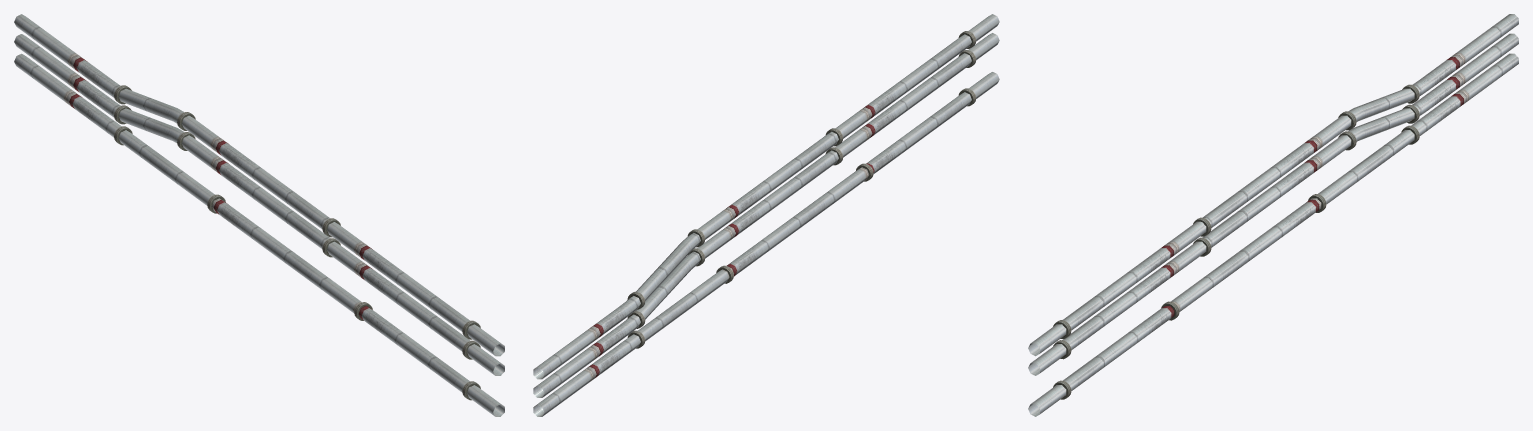
File: EQP_PIPES017.FBX
The picture shows the model from 3 angles, left to right: view 1: azimuth 30°, elevation 25°; view 2: azimuth 150°, elevation 25°; view 3: azimuth 330°, elevation 25°; orthographic projection. The views are drawn at different scales.
Visible parts, largest first — view 1: PIPES017; view 2: PIPES017; view 3: PIPES017.
Part boxes in pixels (x1=…): PIPES017: x1=14, y1=14, x2=504, y2=416; PIPES017: x1=533, y1=14, x2=999, y2=416; PIPES017: x1=1028, y1=14, x2=1518, y2=416.
Size of the model in its own units: 10.08 by 46.34 by 520.
Materials: 1 (1 with a texture image).
